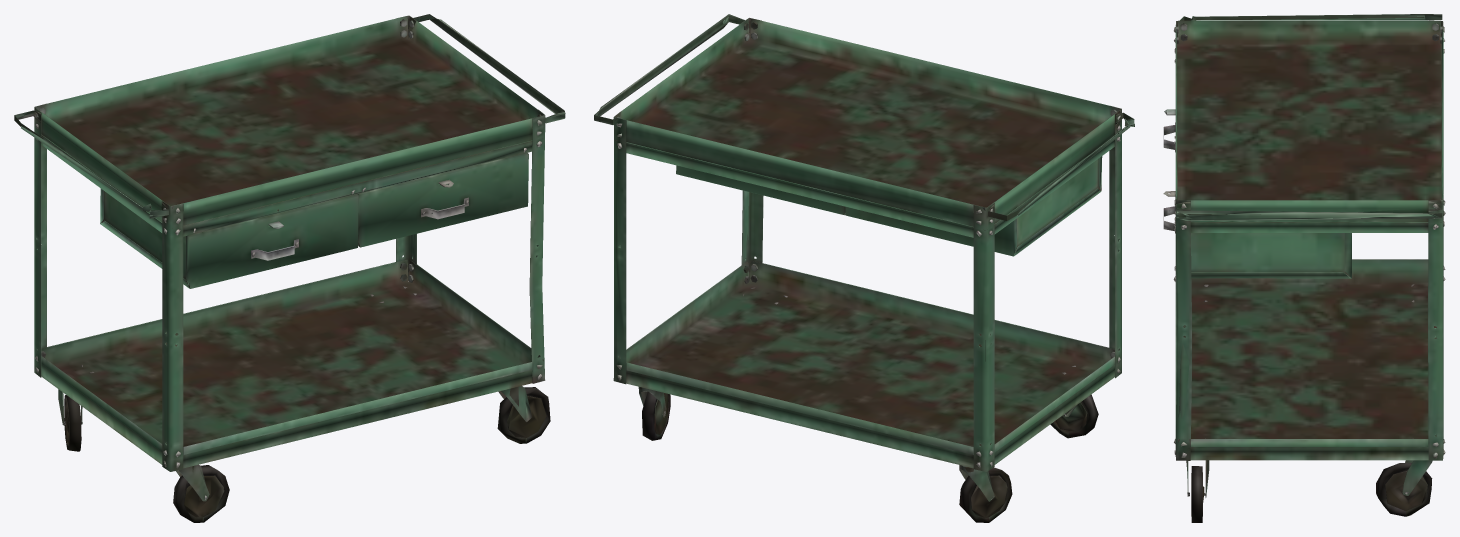
Rendered from tool_cart.glb.
The picture shows the model from 3 angles, left to right: view 1: azimuth 30°, elevation 25°; view 2: azimuth 150°, elevation 25°; view 3: azimuth 270°, elevation 25°; orthographic projection.
Parts seen in each view (by area): view 1: tool_cart; view 2: tool_cart; view 3: tool_cart.
Boxes of the visible parts, left/top/right/bottom form: tool_cart: left=14, top=14, right=565, bottom=522; tool_cart: left=594, top=14, right=1134, bottom=522; tool_cart: left=1163, top=14, right=1445, bottom=522.
Size of the model in its own units: 1.27 by 0.9619 by 0.7522.
Materials: 1 (1 with a texture image).
